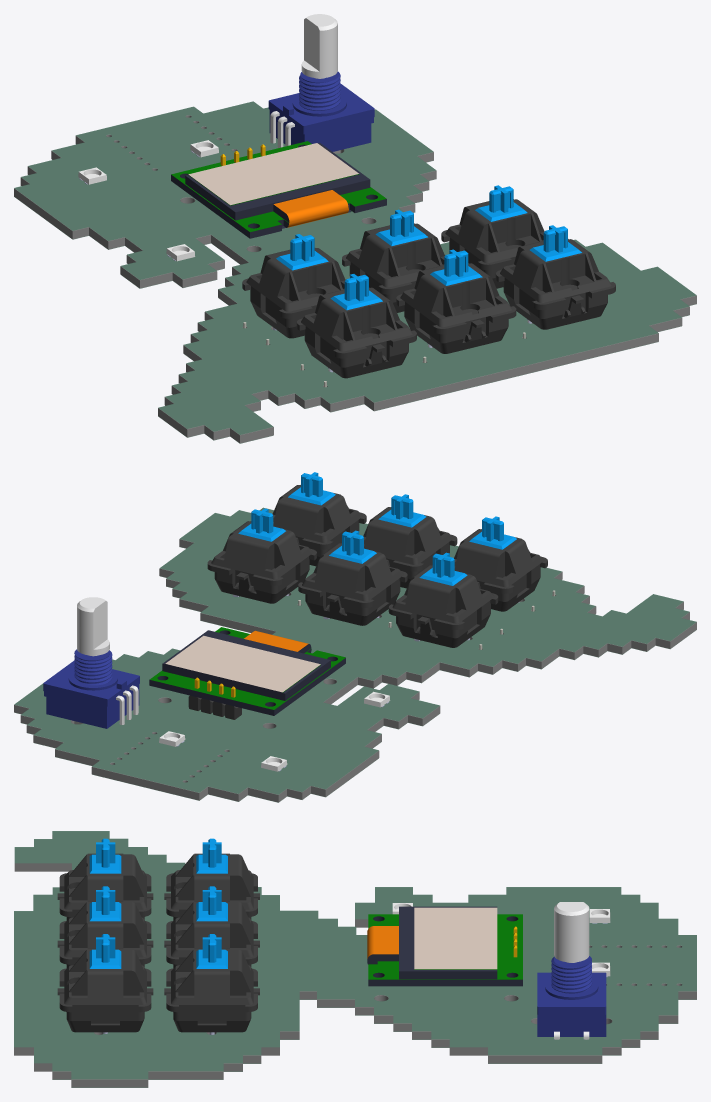
The model's file is SnakePad.glb.
3 views of the same model, one above another, from view 1: azimuth 30°, elevation 25°; view 2: azimuth 150°, elevation 25°; view 3: azimuth 270°, elevation 25° (orthographic). The views are drawn at different scales.
Parts seen in each view (by area): view 1: =>[0:1:1:9], =>[0:1:1:8], Part2, SW2, SW4, SW6, SW1, Body:1, SW5, SW3, Shaft:1; view 2: =>[0:1:1:9], =>[0:1:1:8], Part2, SW1, SW5, SW3, Body:1, SW2, SW4, SW6, Shaft:1, shell_1 (+1 smaller); view 3: =>[0:1:1:9], =>[0:1:1:8], Part2, SW6, SW5, Body:1, SW2, SW4, SW1, SW3, Shaft:1.
Boxes of the visible parts, left/top/right/bottom form: =>[0:1:1:9]: left=14, top=102, right=696, bottom=443; =>[0:1:1:8]: left=14, top=101, right=696, bottom=443; Part2: left=171, top=141, right=386, bottom=238; SW2: left=296, top=274, right=416, bottom=378; SW4: left=396, top=249, right=516, bottom=353; SW6: left=495, top=225, right=615, bottom=329; SW1: left=242, top=234, right=345, bottom=338; Body:1: left=268, top=71, right=374, bottom=151; SW5: left=441, top=185, right=544, bottom=288; SW3: left=342, top=209, right=444, bottom=312; Shaft:1: left=301, top=14, right=337, bottom=78; =>[0:1:1:9]: left=14, top=508, right=696, bottom=802; =>[0:1:1:8]: left=14, top=507, right=696, bottom=802; Part2: left=149, top=627, right=345, bottom=715; SW1: left=388, top=552, right=498, bottom=647; SW5: left=207, top=508, right=316, bottom=603; SW3: left=298, top=530, right=407, bottom=625; Body:1: left=43, top=649, right=139, bottom=728; SW2: left=454, top=516, right=547, bottom=611; SW4: left=363, top=494, right=457, bottom=588; SW6: left=272, top=472, right=366, bottom=566; Shaft:1: left=77, top=597, right=109, bottom=656; shell_1: left=188, top=695, right=241, bottom=719; =>[0:1:1:9]: left=14, top=832, right=696, bottom=1087; =>[0:1:1:8]: left=14, top=831, right=696, bottom=1087; Part2: left=367, top=906, right=522, bottom=986; SW6: left=57, top=934, right=153, bottom=1033; SW5: left=164, top=934, right=259, bottom=1034; Body:1: left=537, top=956, right=606, bottom=1036; SW2: left=57, top=838, right=153, bottom=920; SW4: left=57, top=886, right=153, bottom=967; SW1: left=164, top=838, right=259, bottom=920; SW3: left=164, top=886, right=259, bottom=968; Shaft:1: left=554, top=902, right=589, bottom=962.
Bounding box in the file's own units: 0.0994 × 0.0268 × 0.1156.
